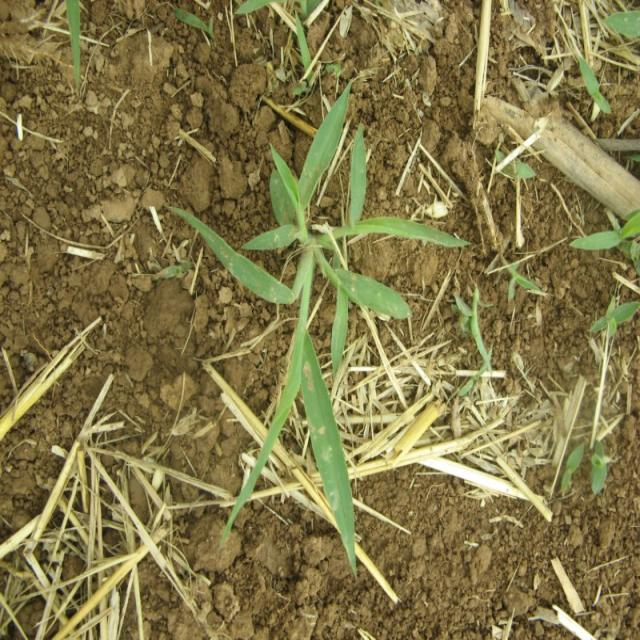bg: (162, 99, 452, 574)
